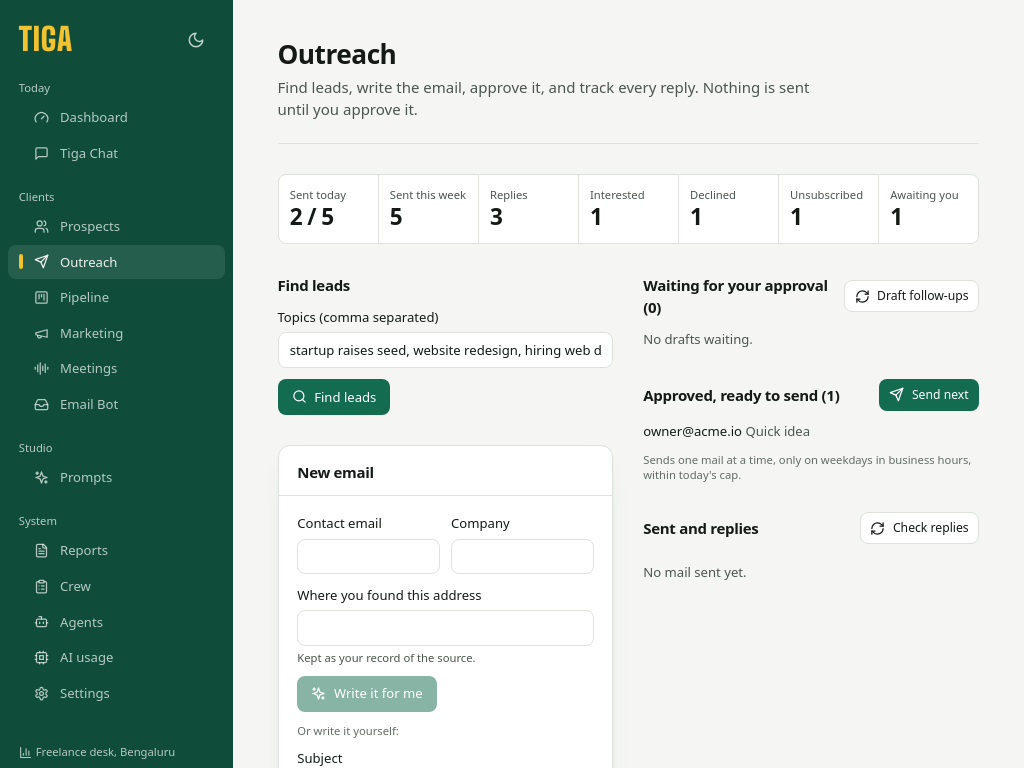
Scenario: Outreach › explains why nothing was sent
Click the button "Send next" at coordinates (929, 395), box [879,379,979,411]
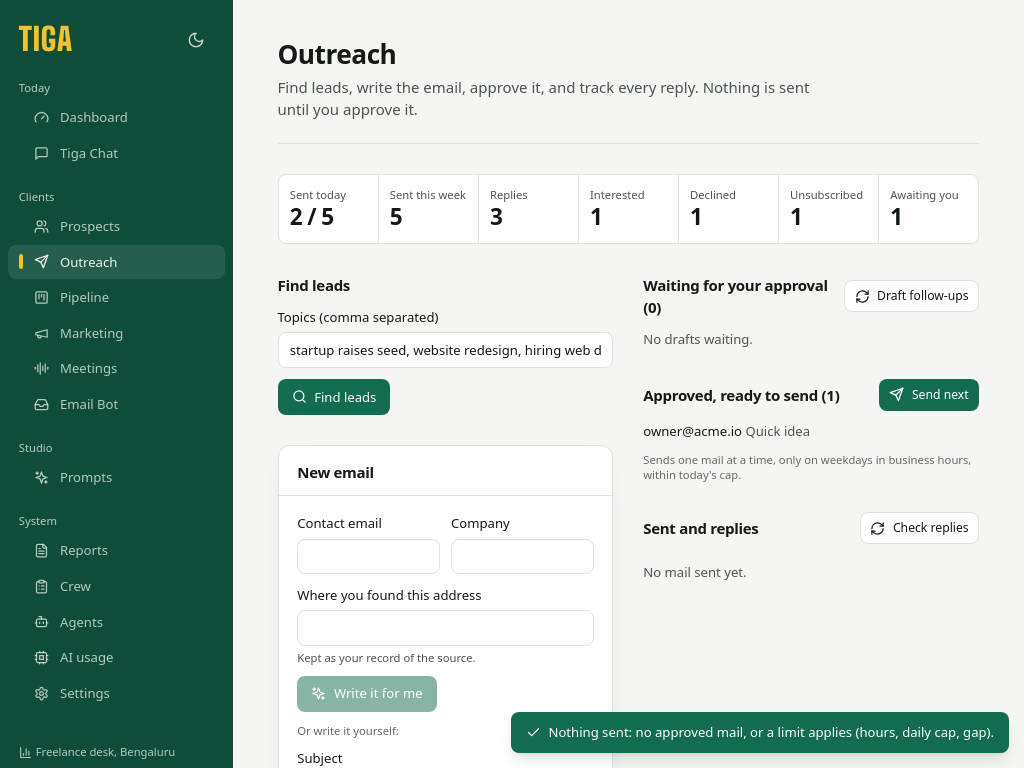
Expected: the text "Nothing sent: no approved mail, or a limit applies (hours, daily cap, gap)." is shown, [511,712,1009,753]
